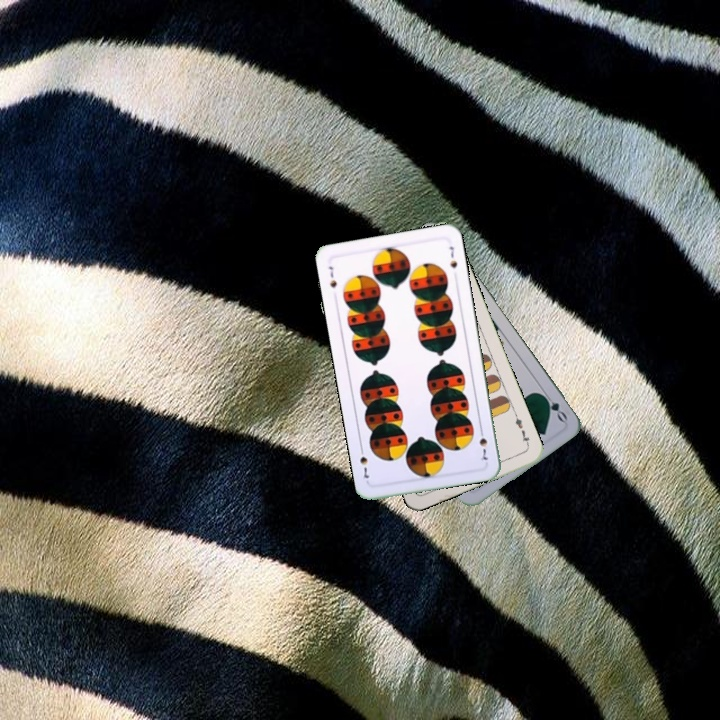E7: (511, 410, 532, 449)
GO: (537, 388, 570, 425)
S7: (475, 424, 490, 463), (324, 262, 339, 290)
